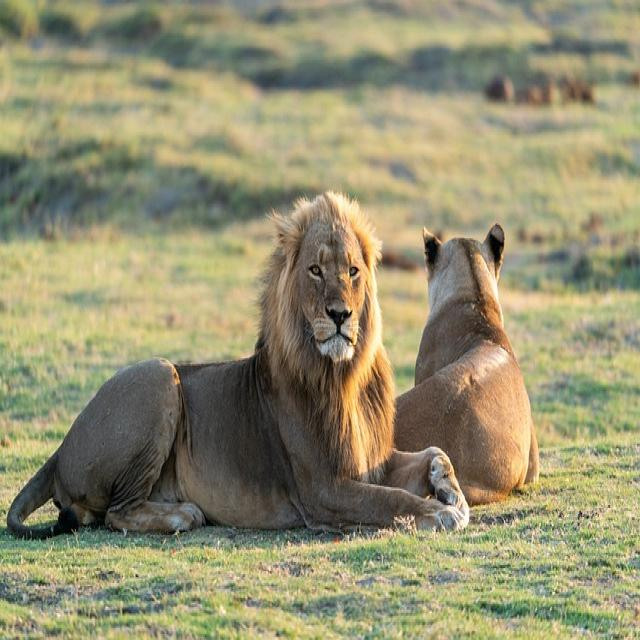Carnivorous: (4, 192, 470, 543), (393, 225, 540, 510)
